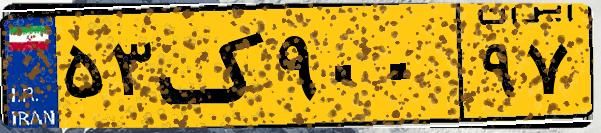0: (385, 28, 445, 110), (330, 28, 385, 110)
3: (110, 28, 158, 98)
5: (57, 26, 110, 100)
7: (525, 38, 570, 115)
9: (270, 28, 330, 110), (475, 38, 525, 113)
ک: (158, 12, 270, 120)
